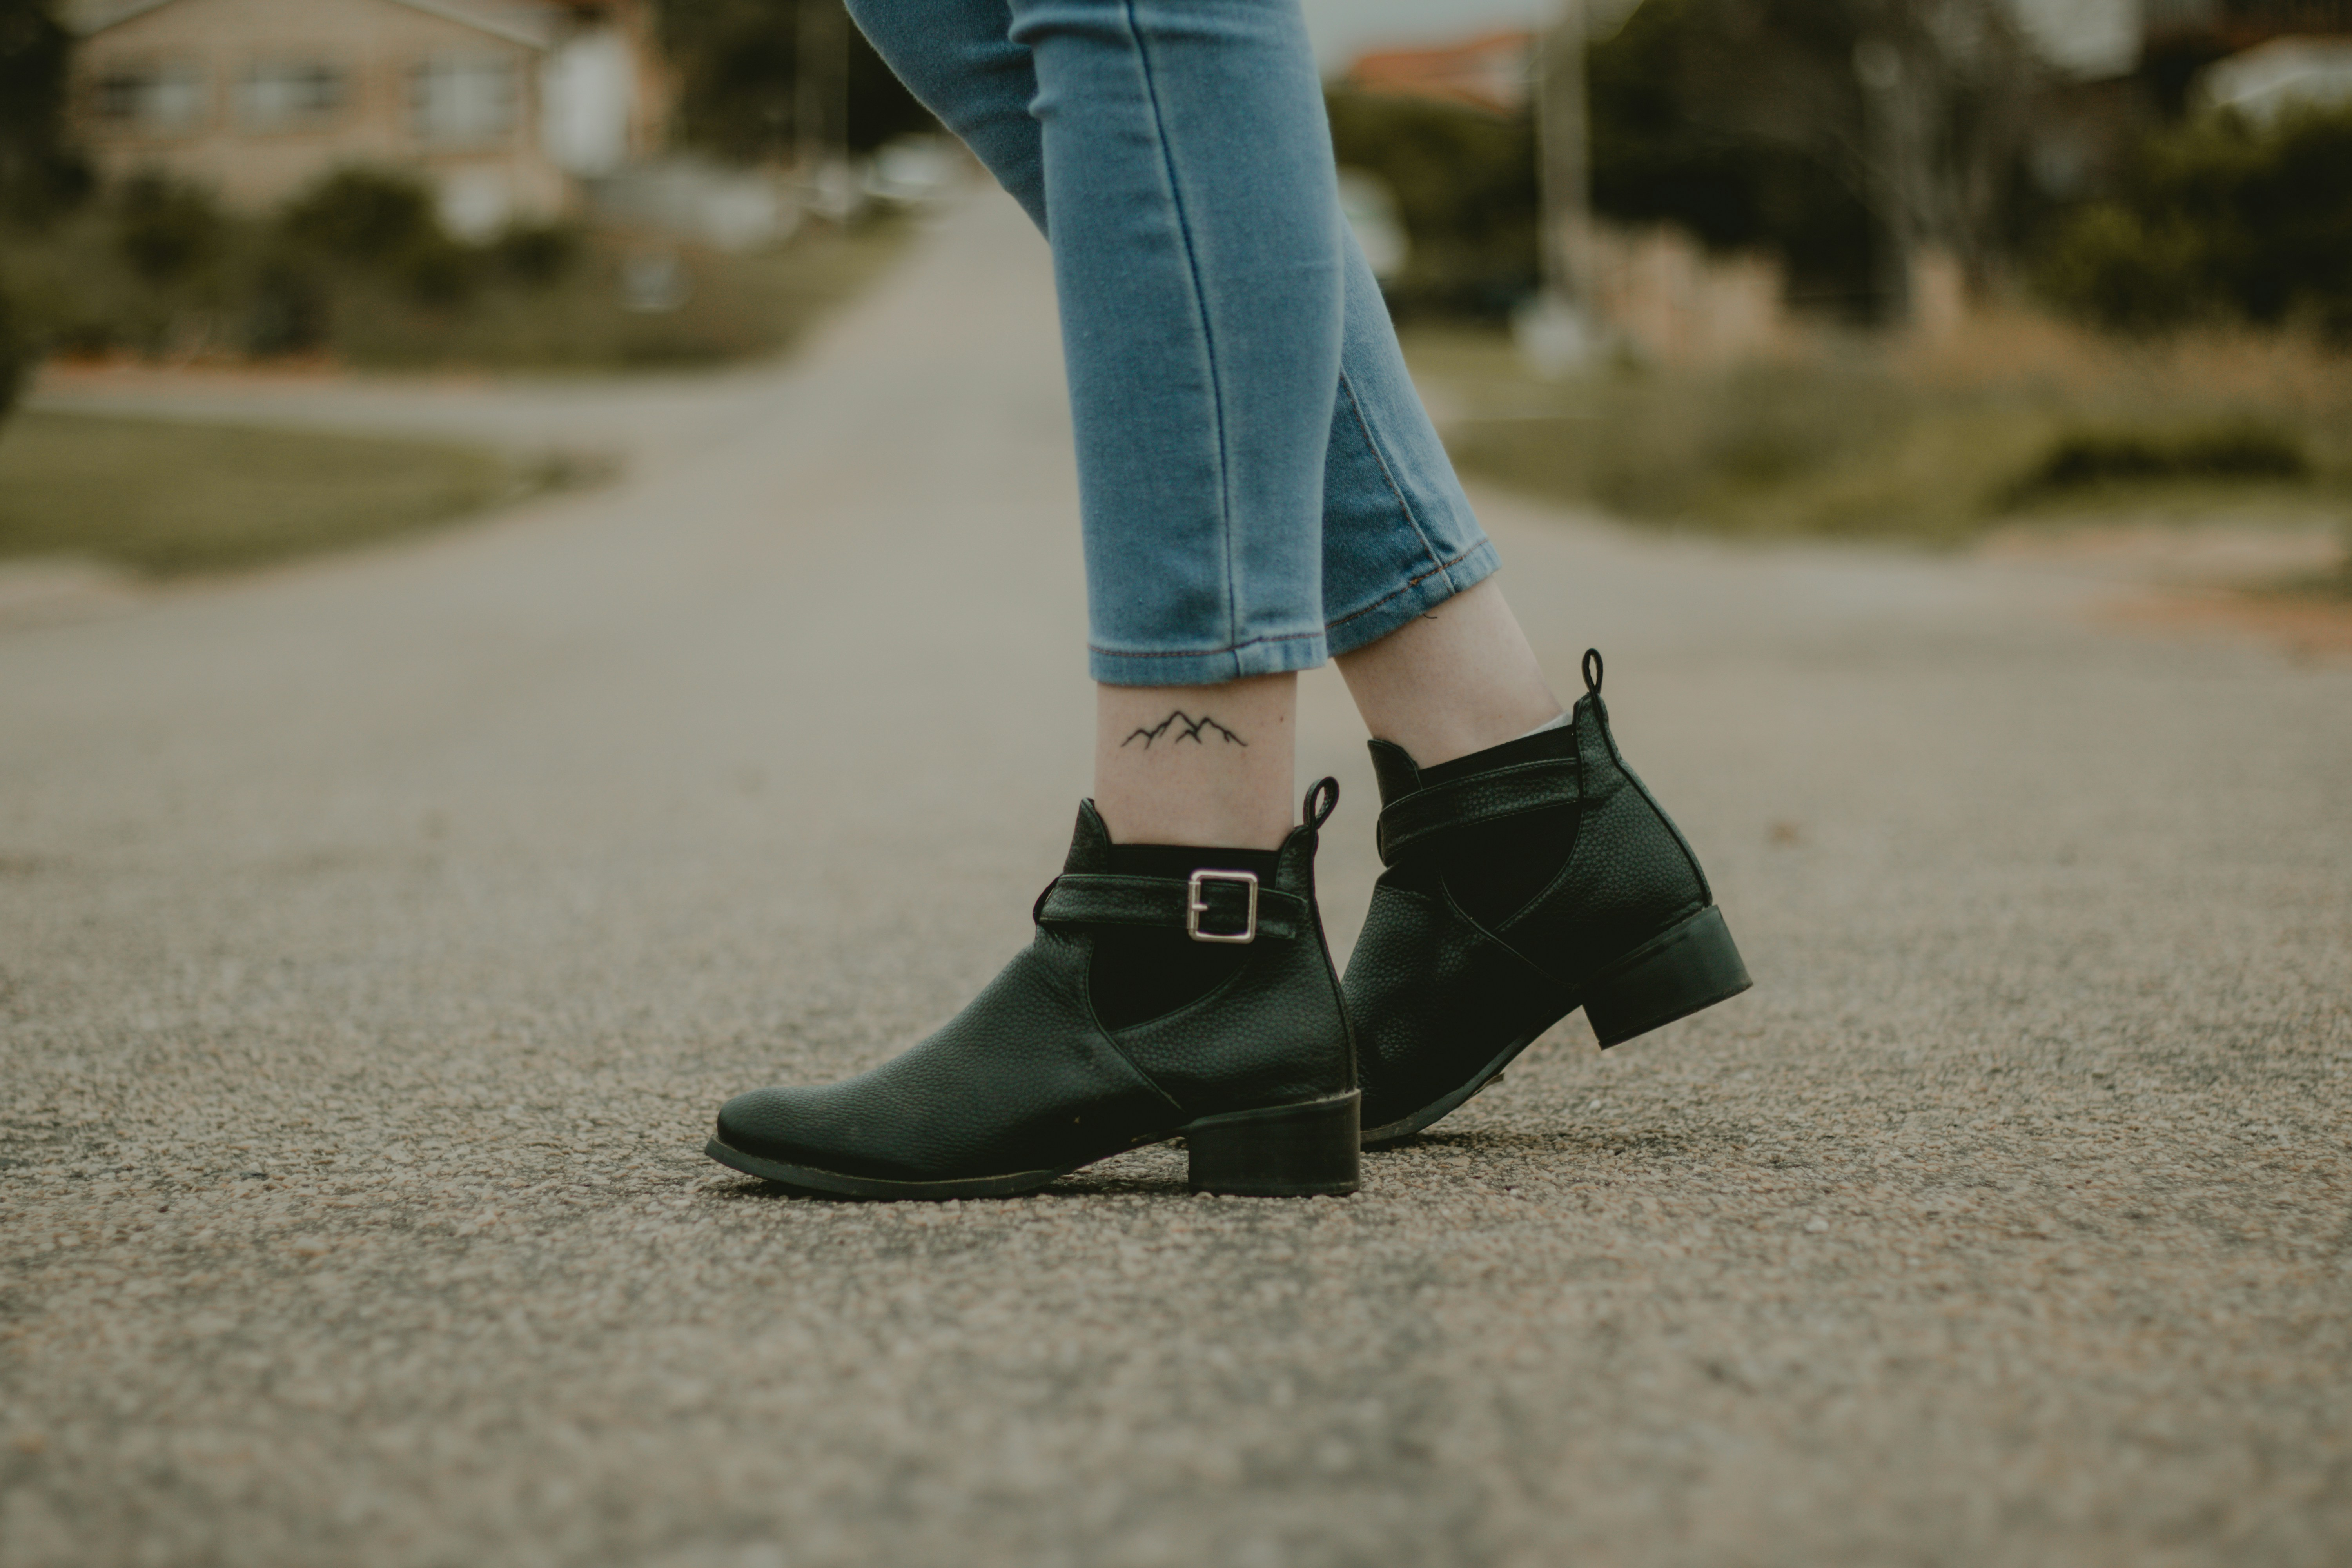Footwear: (626, 675, 1858, 1232), (670, 789, 1379, 1230)
